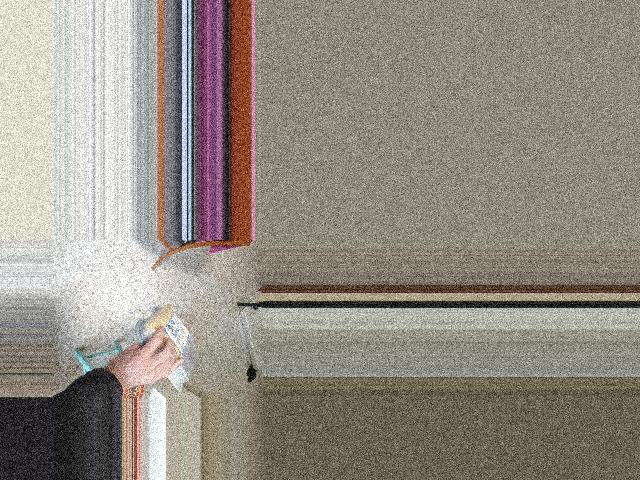cheese: (149, 295, 188, 387)
